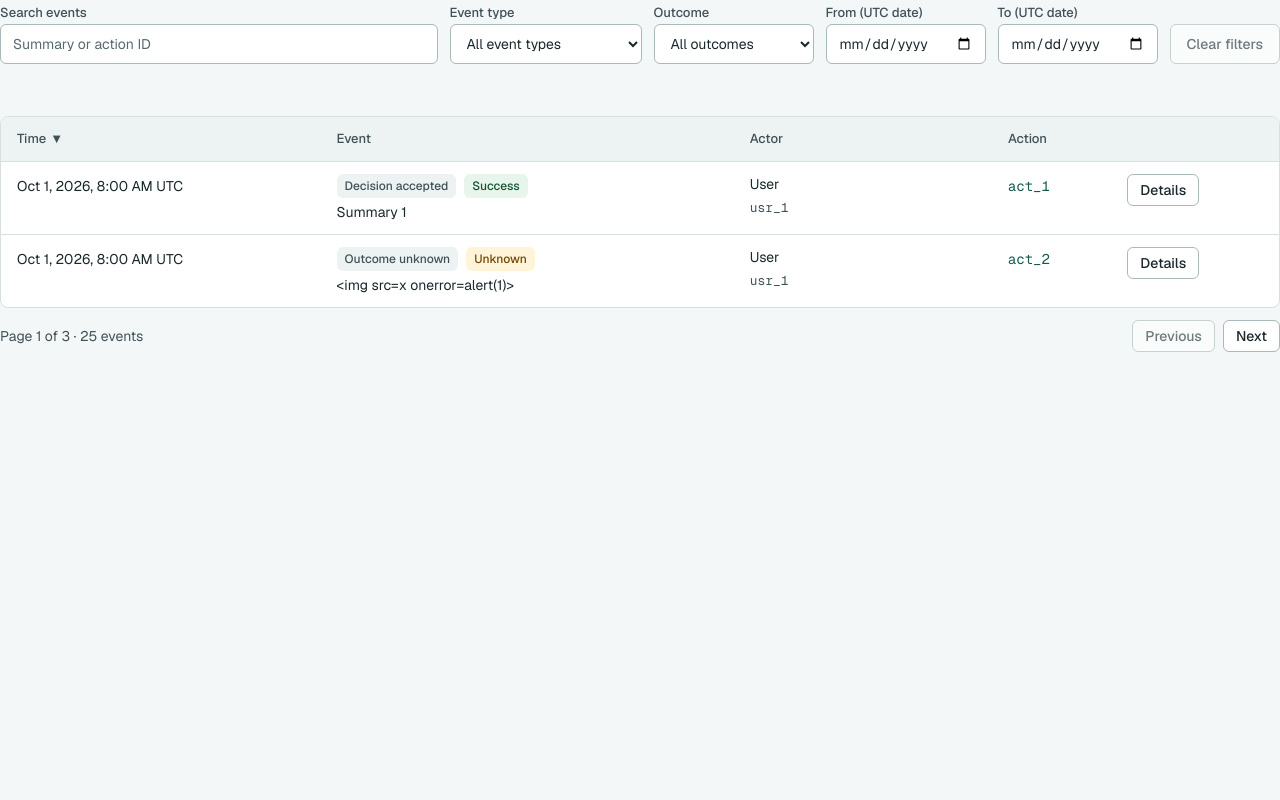
Test: AuditLog › opens the detail dialog through the detail service and states unknown outcomes
Expected: the number of rows is 3, [1,117,1279,162]; [1,162,1279,234]; [1,234,1279,307]
Click the button with aria-label "View details for event evt_2" at (1163, 263), box [1127,247,1199,279]
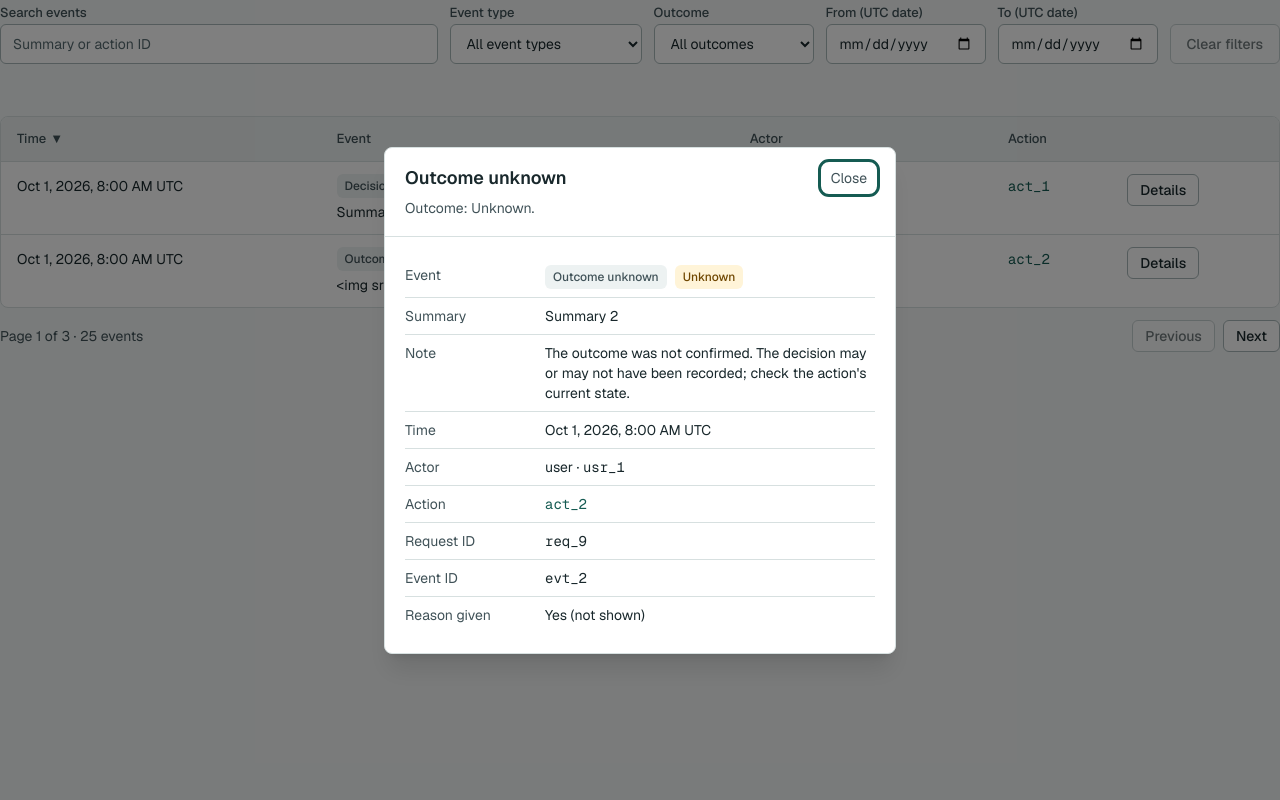
Expected: the text "outcome was not confirmed" is shown, [545,344,866,402]
Expected: the text "Yes (not shown)" is shown, [545,606,645,624]
